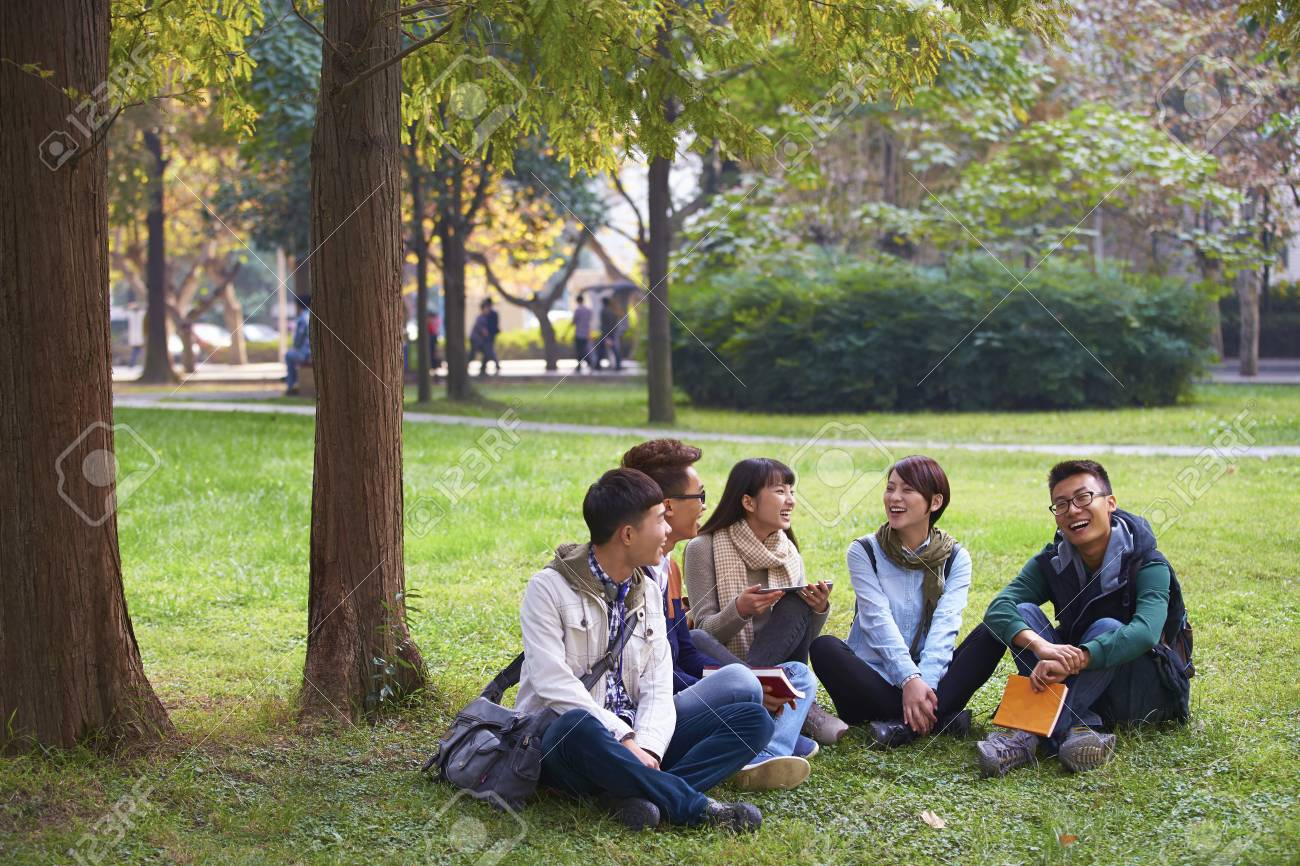Person: (982, 459, 1197, 778), (508, 469, 675, 827), (834, 453, 982, 749), (707, 458, 828, 662)
